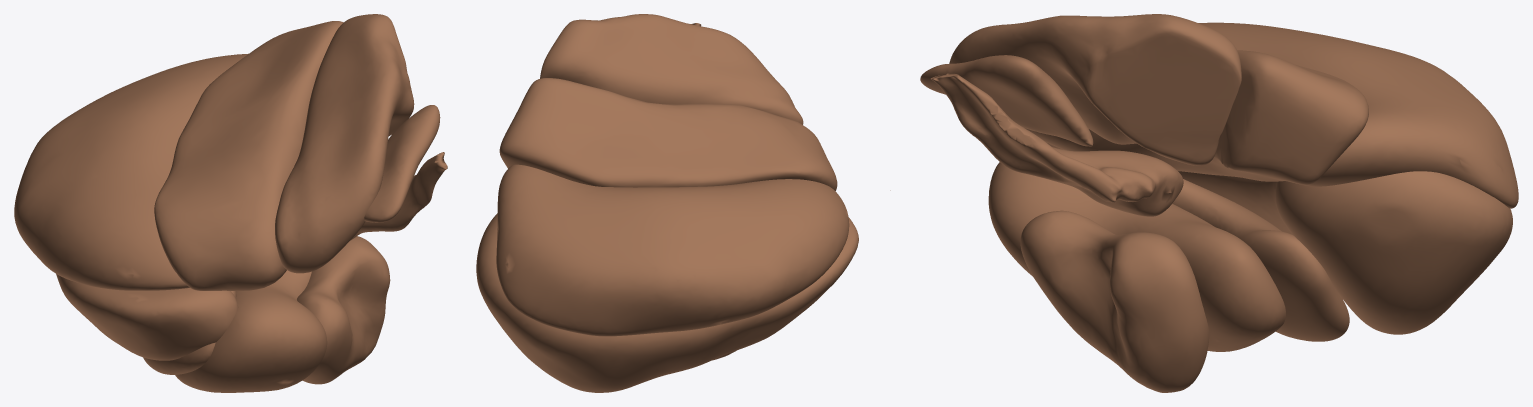
The model's file is Reptillian.R.001.fbx.
The picture shows the model from 3 angles, left to right: view 1: azimuth 30°, elevation 25°; view 2: azimuth 150°, elevation 25°; view 3: azimuth 270°, elevation 25°; orthographic projection. The views are drawn at different scales.
Parts seen in each view (by area): view 1: Rep.R; view 2: Rep.R; view 3: Rep.R.
Part boxes in pixels (<box>): Rep.R: <box>14,14,447,392</box>; Rep.R: <box>476,14,890,392</box>; Rep.R: <box>920,14,1518,392</box>.
Size of the model in its own units: 5.08 by 7.1 by 5.19.
